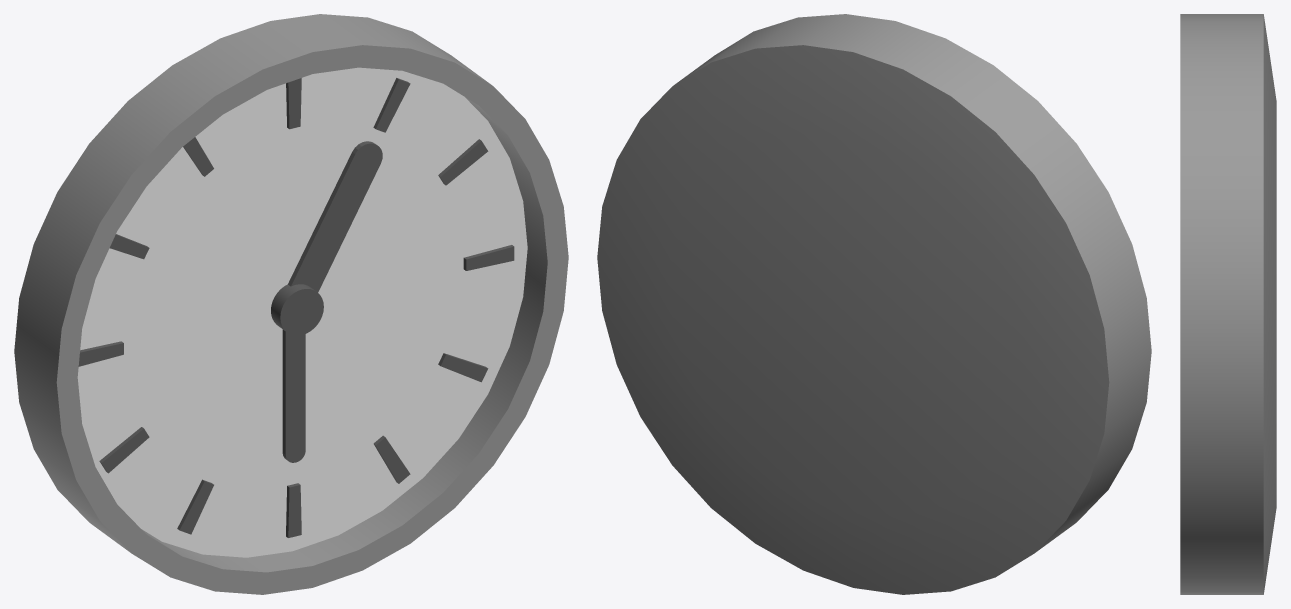
The model's file is one_thirty.gltf.
The picture shows the model from 3 angles, left to right: view 1: azimuth 30°, elevation 25°; view 2: azimuth 150°, elevation 25°; view 3: azimuth 270°, elevation 25°; orthographic projection.
Visible parts, largest first — view 1: Circle.2438, Circle.2439, Plane.256, Plane.257; view 2: Circle.2438; view 3: Circle.2438.
Part boxes in pixels (x1,y1,x2,y2): Circle.2438: [14, 14, 568, 594]; Circle.2439: [78, 78, 514, 537]; Plane.256: [288, 141, 382, 292]; Plane.257: [282, 329, 305, 462]; Circle.2438: [597, 14, 1151, 594]; Circle.2438: [1180, 14, 1276, 594].
Size of the model in its own units: 2.33 by 2.33 by 0.387.
1 material, 1 textured.
